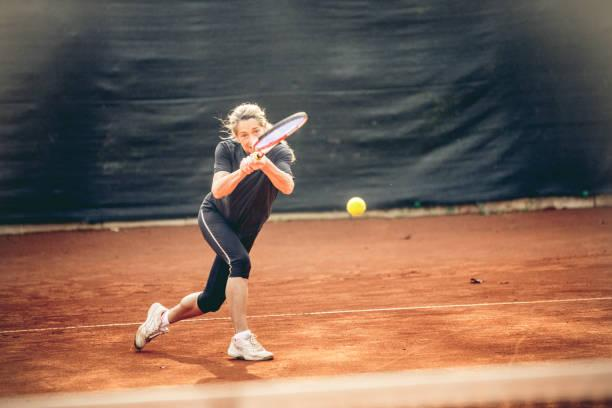ball_tennis: (348, 196, 367, 217)
